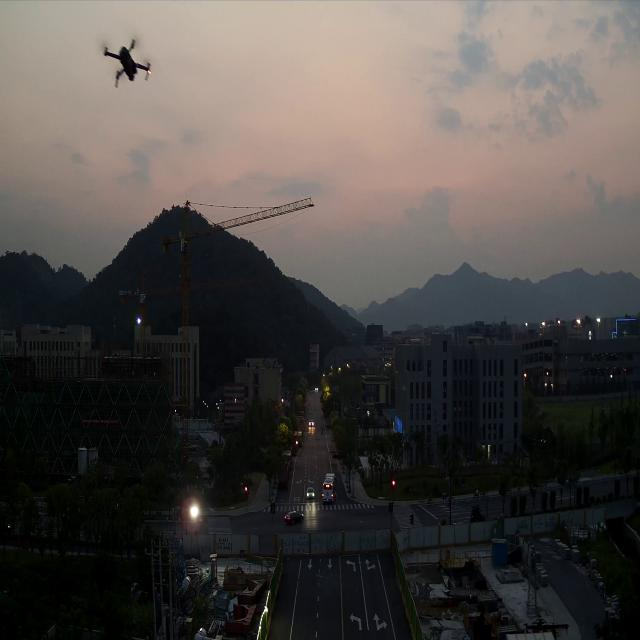UAV: (103, 38, 151, 88)
